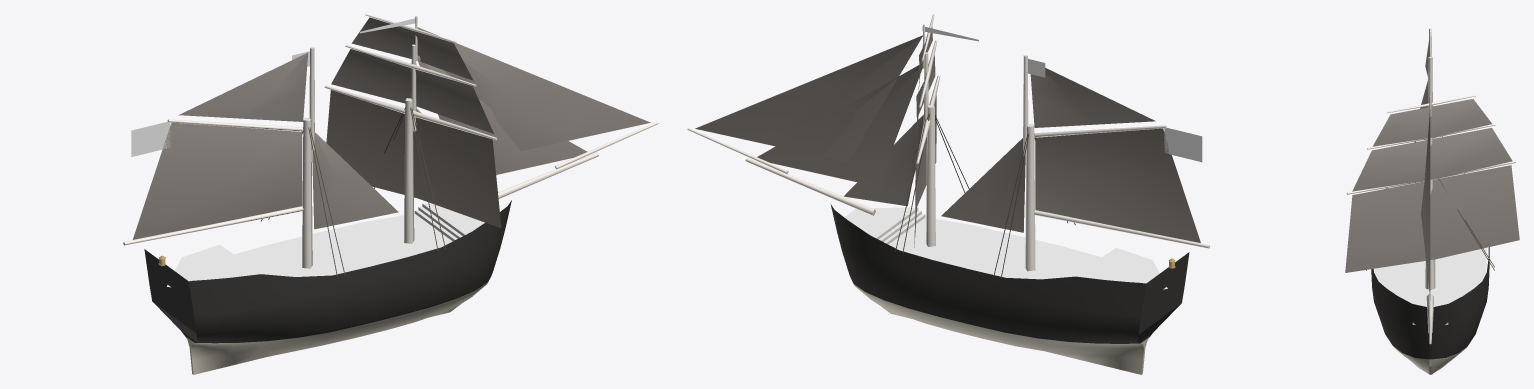
File: brigantine_v2_lod2.glb
The picture shows the model from 3 angles, left to right: view 1: azimuth 30°, elevation 25°; view 2: azimuth 150°, elevation 25°; view 3: azimuth 270°, elevation 25°; orthographic projection. The views are drawn at different scales.
Visible parts, largest first — view 1: SM_Brigantine_LOD2; view 2: SM_Brigantine_LOD2; view 3: SM_Brigantine_LOD2.
Boxes of the visible parts, <box> form: SM_Brigantine_LOD2: <box>123,14,658,374</box>; SM_Brigantine_LOD2: <box>687,14,1210,374</box>; SM_Brigantine_LOD2: <box>1345,28,1519,374</box>.
Size of the model in its own units: 37.95 by 17.1 by 10.23.
